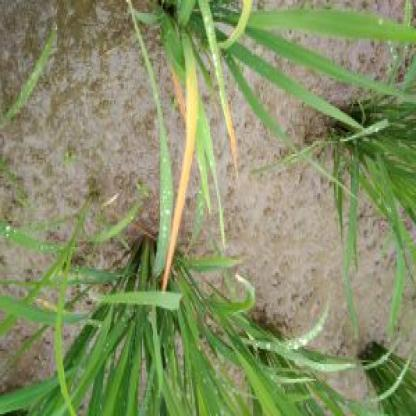Tungro: (161, 69, 205, 286)
